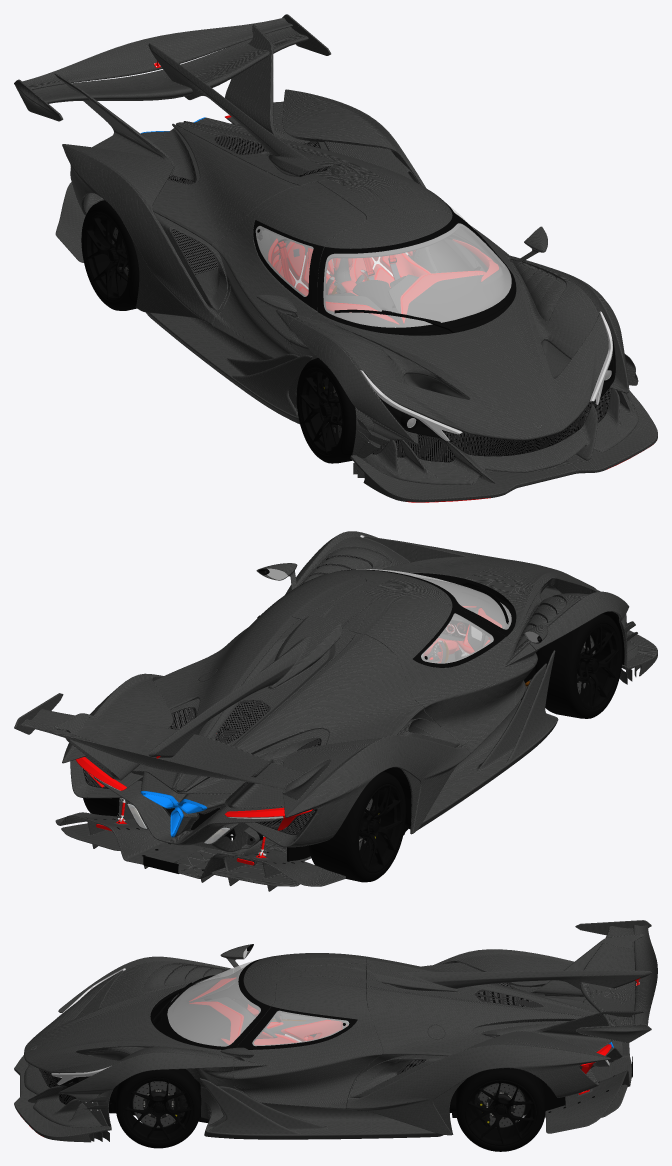
The model's file is solstice_ie.glb.
3 views of the same model, one above another, from view 1: azimuth 30°, elevation 25°; view 2: azimuth 150°, elevation 25°; view 3: azimuth 270°, elevation 25° (orthographic). The views are drawn at different scales.
Parts seen in each view (by area): view 1: Object_34, Object_48, Object_20, Object_17, Object_4, Object_23, Object_14, Object_38, Object_28, Object_19, Object_32; view 2: Object_34, Object_28, Object_23, Object_48, Object_17, Object_4, Object_20, Object_13, Object_11, Object_32, Object_14, Object_43 (+1 smaller); view 3: Object_34, Object_48, Object_28, Object_23, Object_20, Object_17, Object_30, Object_38, Object_14, Object_4, Object_13, Object_32 (+2 smaller).
Part boxes in pixels (x1,y1,x2,y2): Object_34: (14, 14, 657, 502); Object_48: (255, 202, 612, 441); Object_20: (256, 181, 541, 427); Object_17: (170, 141, 615, 462); Object_4: (168, 136, 611, 461); Object_23: (84, 212, 343, 454); Object_14: (212, 175, 570, 472); Object_38: (268, 238, 498, 324); Object_28: (81, 200, 355, 463); Object_19: (360, 311, 612, 441); Object_32: (94, 218, 335, 447); Object_34: (14, 531, 657, 891); Object_28: (83, 613, 622, 882); Object_23: (358, 623, 619, 873); Object_48: (84, 535, 511, 843); Object_17: (83, 568, 541, 873); Object_4: (83, 555, 557, 834); Object_20: (342, 564, 540, 662); Object_13: (117, 558, 624, 861); Object_11: (75, 757, 313, 865); Object_32: (361, 630, 609, 864); Object_14: (119, 579, 562, 852); Object_43: (140, 791, 207, 837); Object_34: (14, 920, 657, 1142); Object_48: (51, 960, 609, 1085); Object_28: (116, 1068, 545, 1151); Object_23: (123, 1077, 536, 1145); Object_20: (31, 957, 346, 1049); Object_17: (47, 945, 632, 1130); Object_30: (132, 1081, 525, 1128); Object_38: (189, 978, 347, 1044); Object_14: (69, 957, 544, 1108); Object_4: (39, 965, 543, 1104); Object_13: (59, 965, 565, 1139); Object_32: (129, 1108, 531, 1138).
Size of what is drawn, in the model's own units: 2.06 by 1.17 by 5.08.
Materials: 32 (13 with a texture image).
